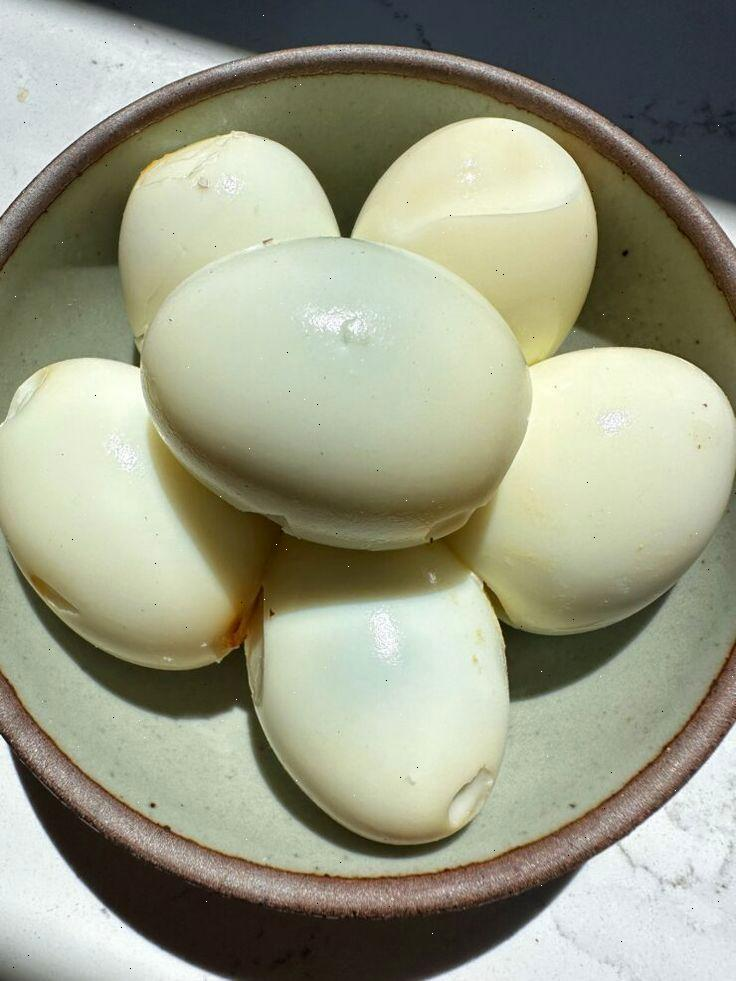eggs: (67, 141, 736, 827)
